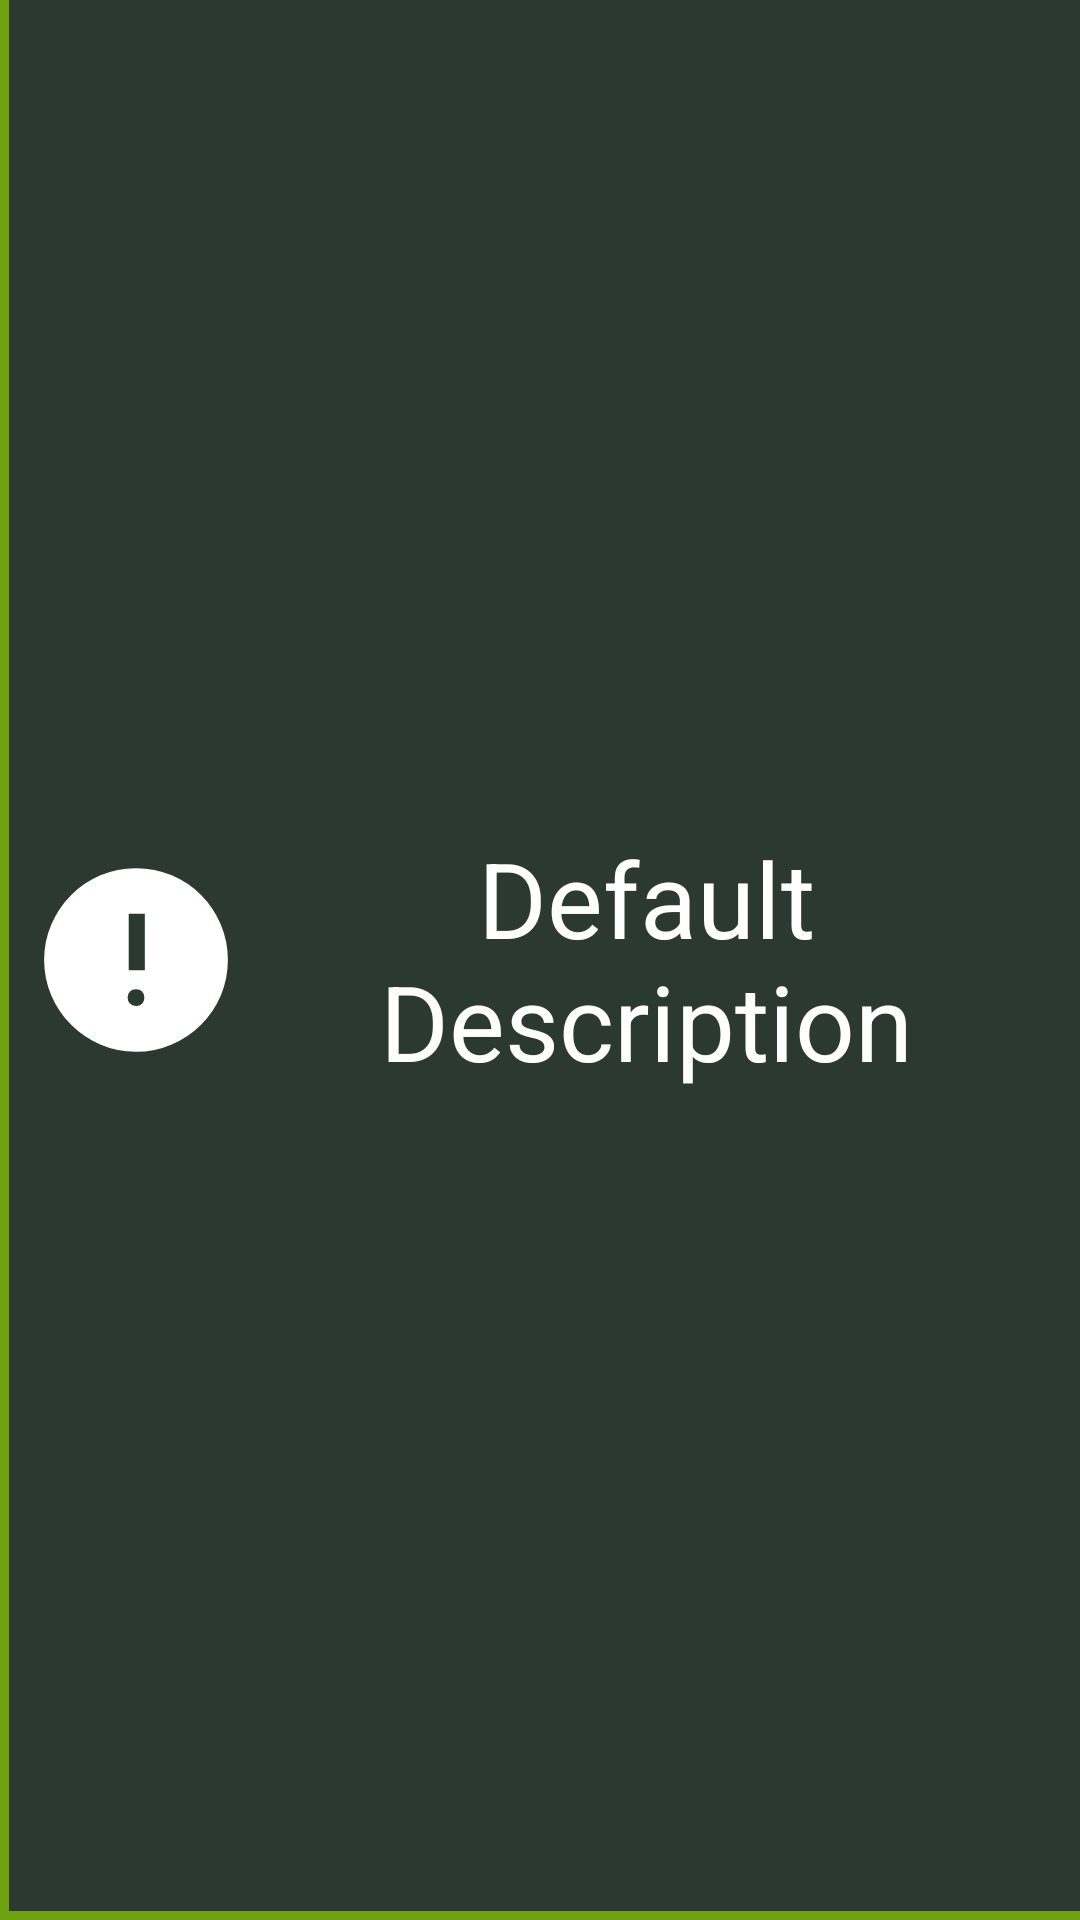

Screen size 1080×1920. Icon name, then its center in pixels as point (x, y):
error: point (136, 960)
